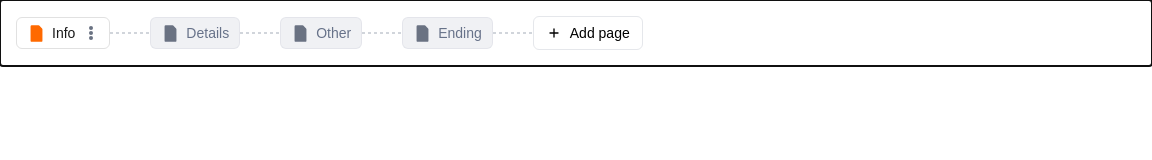
it: PageNavigationContainer › Interaction with Existing Features › should work with keyboard navigation
The width and height of the screenshot is (1152, 160).
Press ArrowRight in the element showing "Info Details Other Ending Add page", box [16,16,643,50]
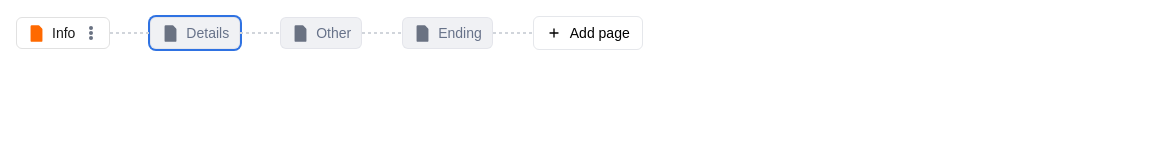
Hover over the 5th element with class "items-center".
mouse_move(130, 33)  # box [110,32,150,34]
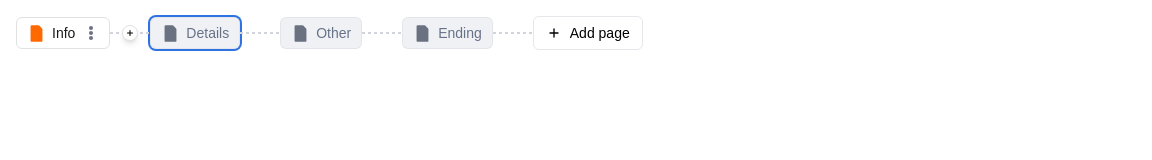
Expected: the button named "Add page after position 0" is shown, [122,25,138,41]
